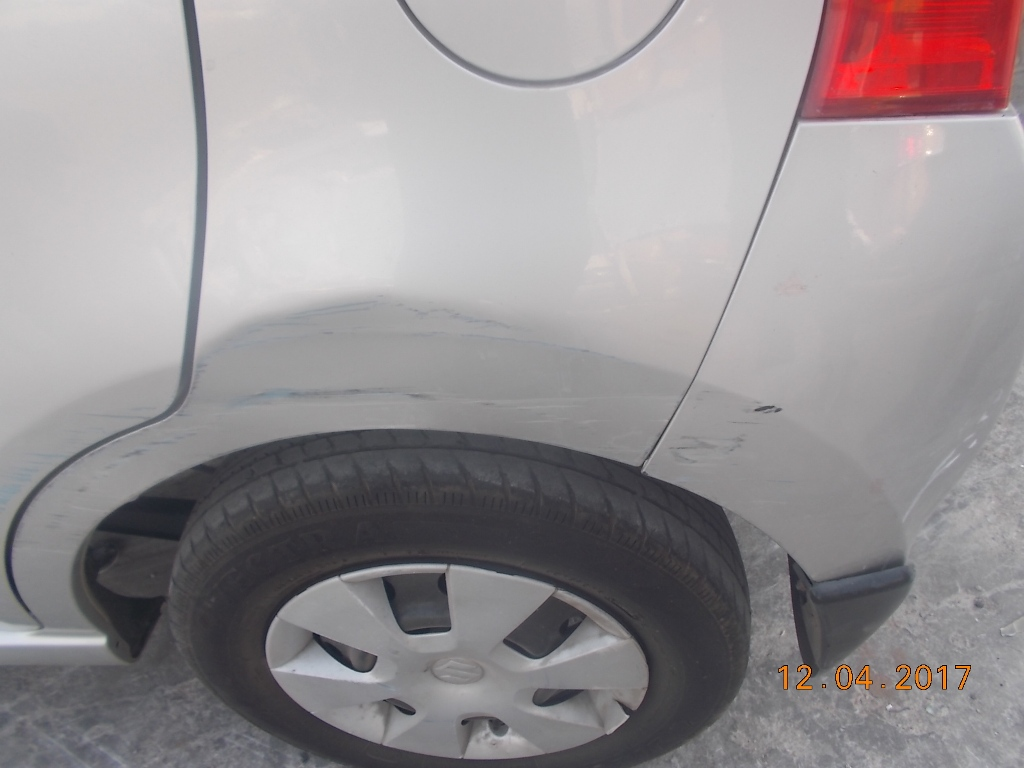Scratch_or_spot: (681, 412, 742, 490), (759, 394, 780, 447)
